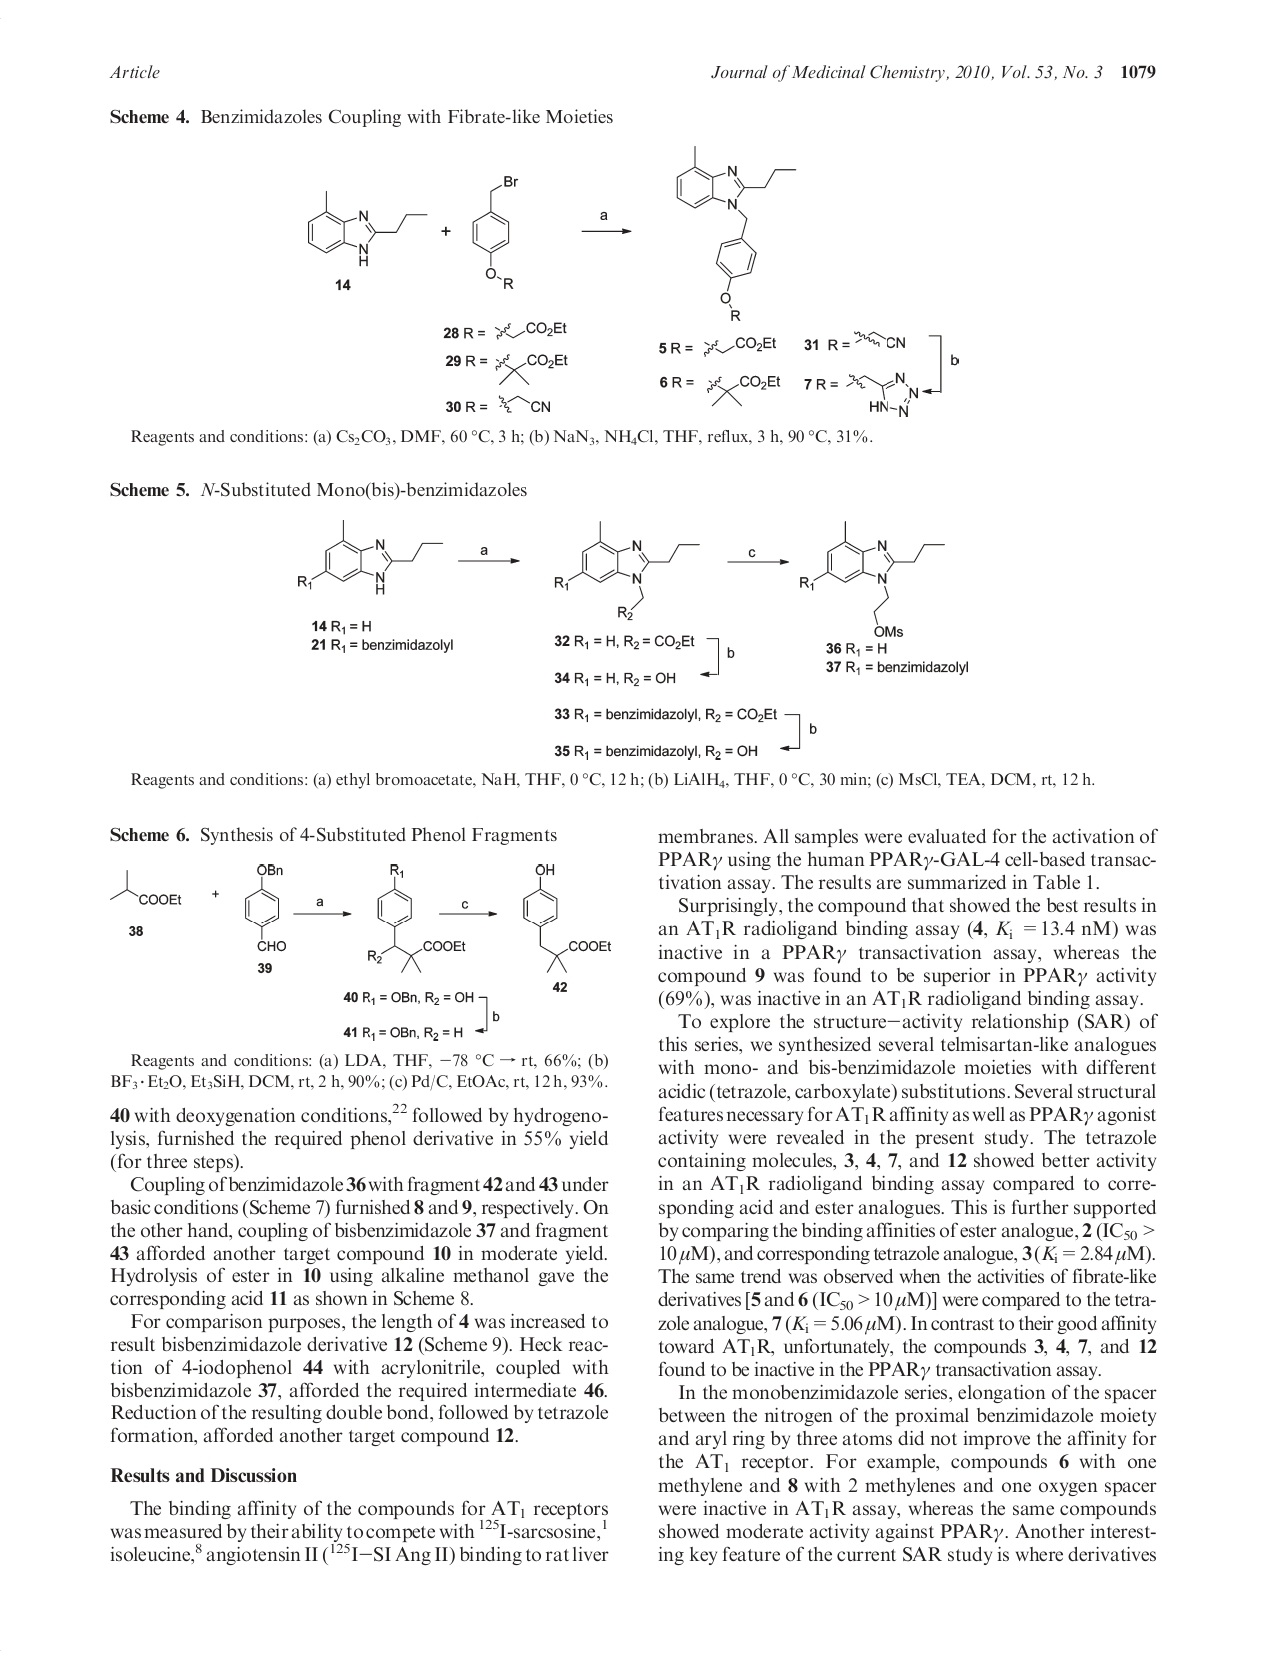exist_molecular: (676, 142, 798, 322), (798, 520, 947, 638), (553, 519, 701, 621), (297, 519, 445, 596), (366, 862, 465, 973), (305, 188, 430, 269), (523, 860, 612, 973), (471, 173, 520, 290), (243, 862, 287, 952), (844, 370, 920, 419), (108, 868, 184, 907), (493, 351, 570, 387), (705, 372, 782, 407), (702, 335, 781, 360), (493, 318, 569, 340), (496, 394, 552, 415), (854, 330, 907, 350)
